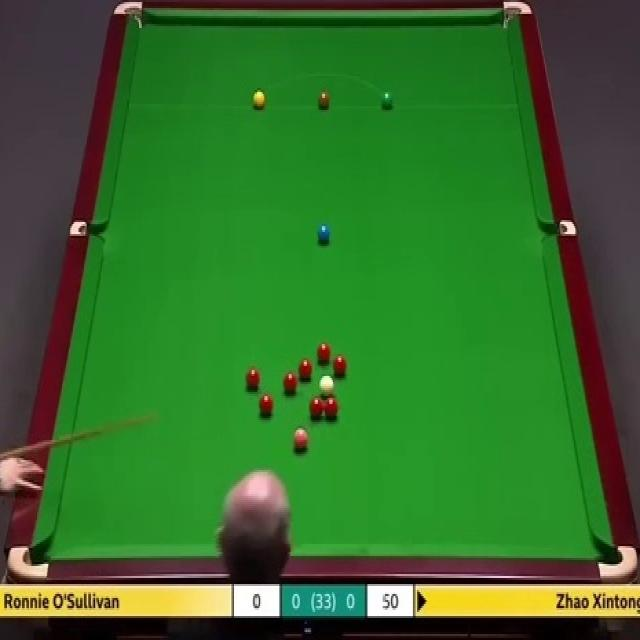pocket: (594, 543, 640, 583), (6, 544, 51, 582), (113, 0, 146, 34), (500, 0, 531, 32), (69, 218, 106, 238), (541, 220, 575, 238)
